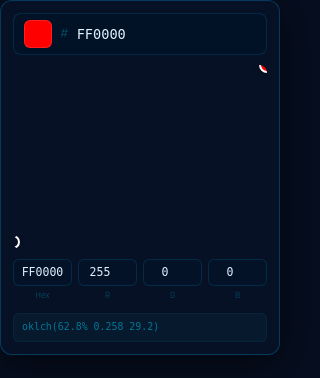
Test: ColorPicker › 非法 HEX 字符被过滤
This screenshot has width=320, height=378.
Replace the text in the 2nd field with "zz!@12ab" at (42, 273), box [13, 259, 72, 286]
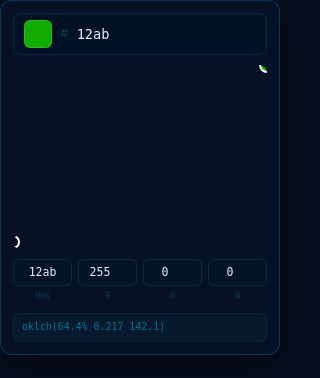
Expected: the 2nd field holds "12ab", [13, 259, 72, 286]
